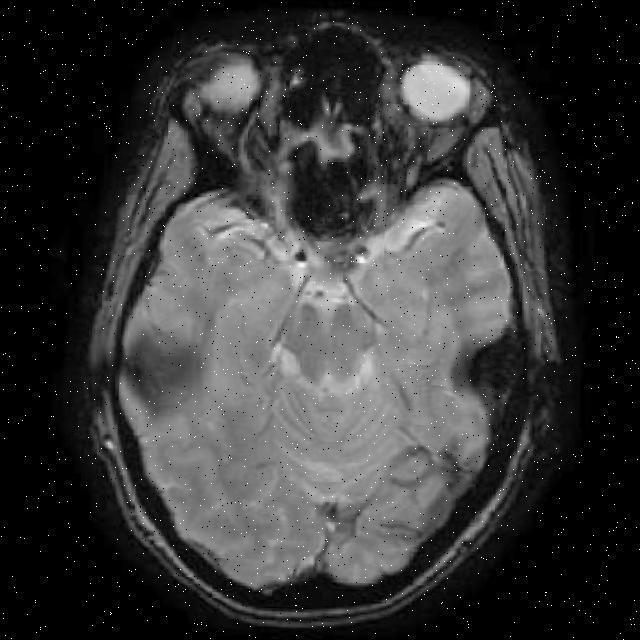MCI: (126, 316, 210, 430), (452, 312, 534, 420)
